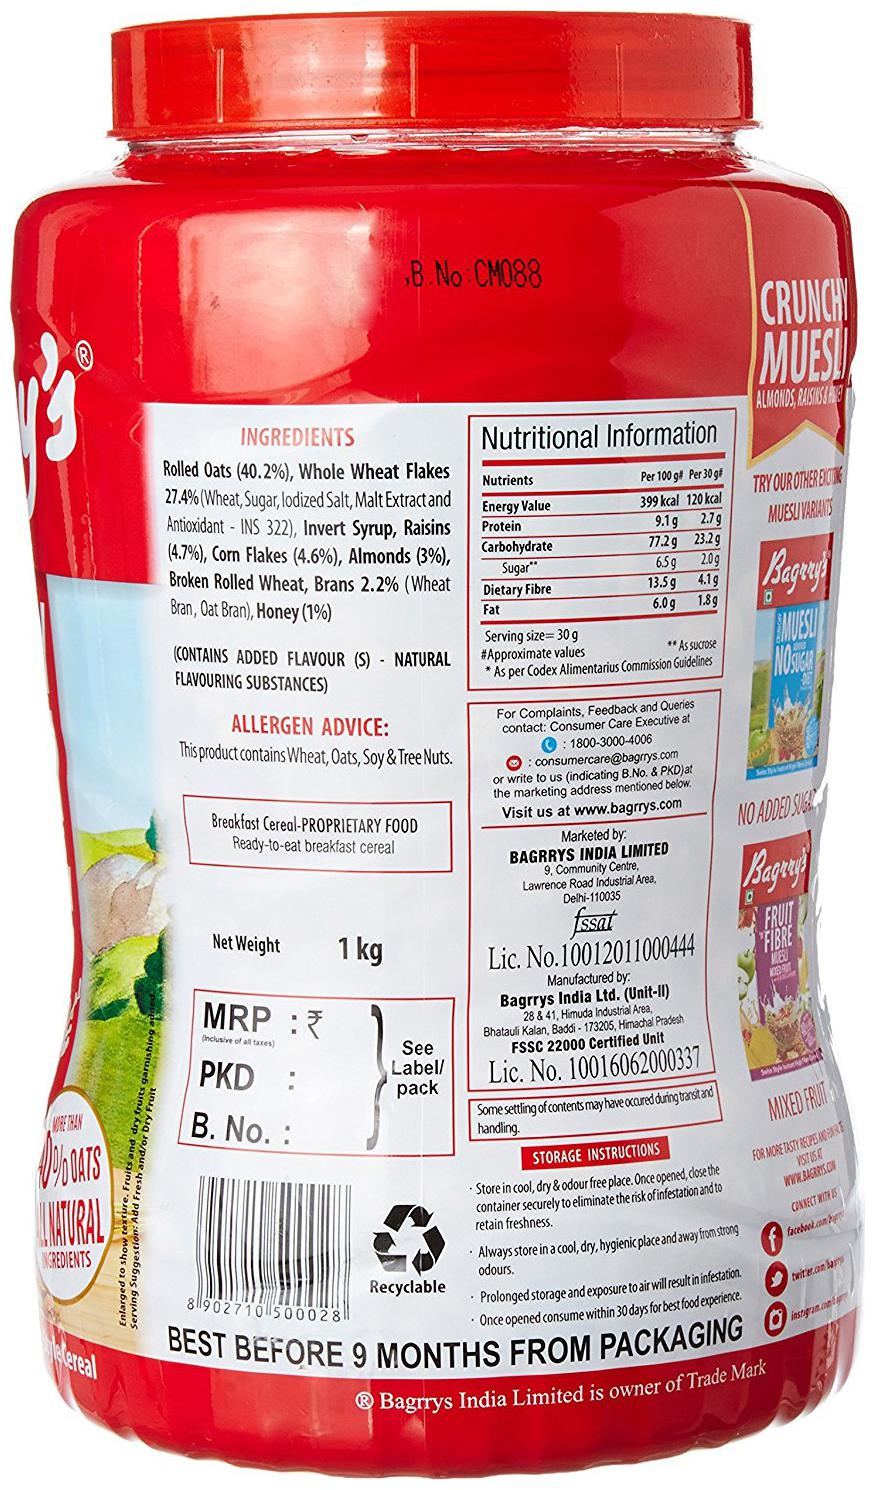fssai: (570, 906, 620, 935)
